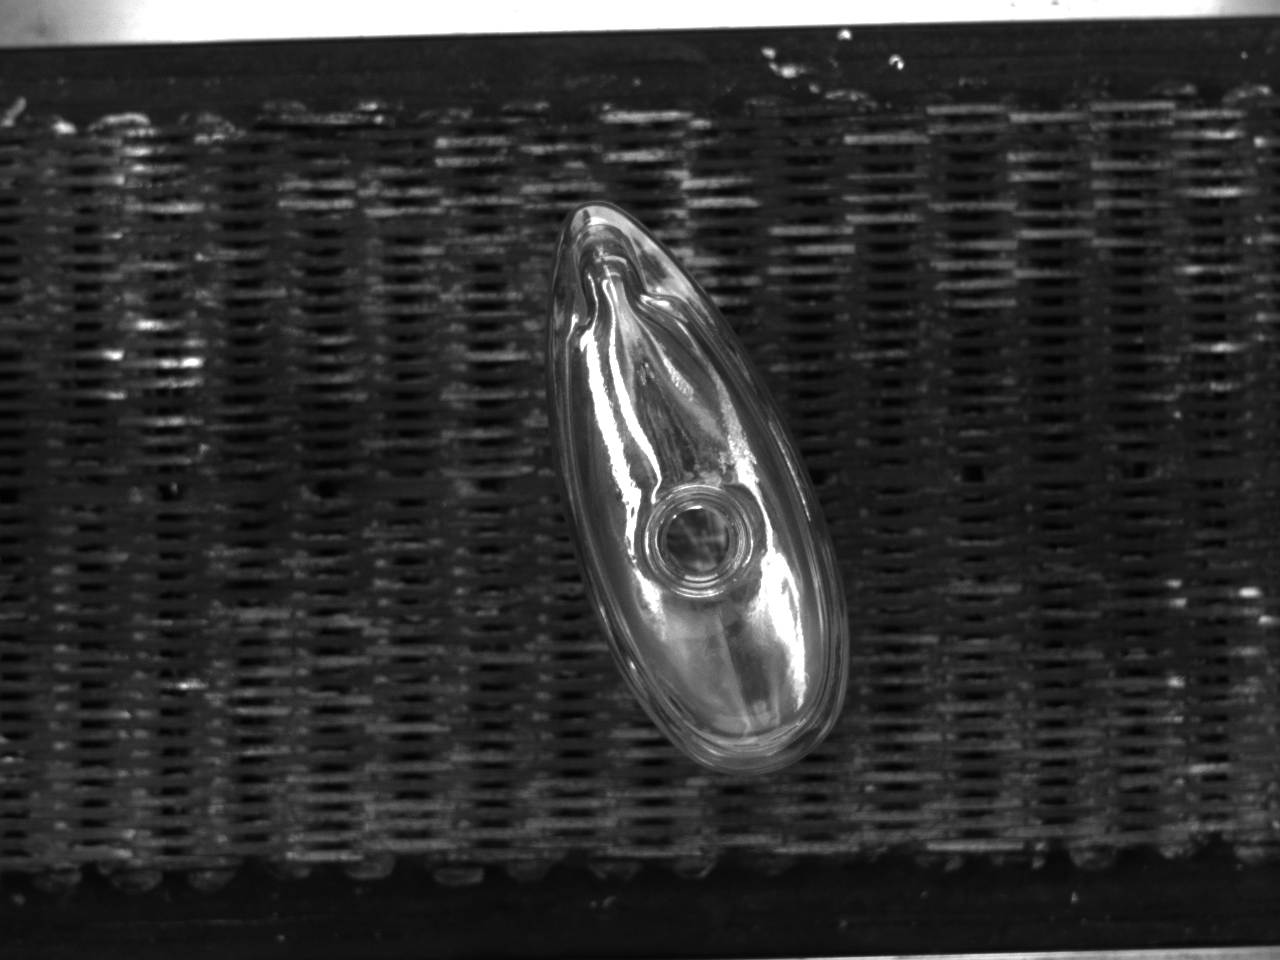bottleneck: (644, 486, 753, 598)
